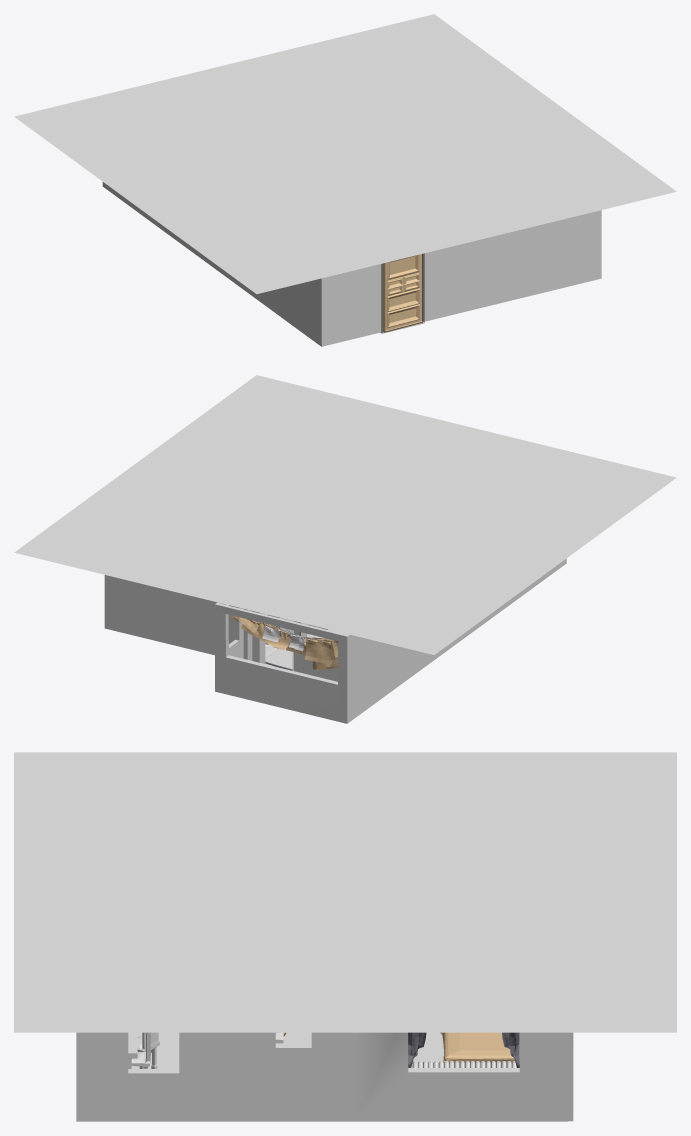
The model's file is Apartament2.fbx.
The picture shows the model from 3 angles, top to bottom: view 1: azimuth 30°, elevation 25°; view 2: azimuth 150°, elevation 25°; view 3: azimuth 270°, elevation 25°; orthographic projection. The views are drawn at different scales.
Parts seen in each view (by area): view 1: Tavan, WALLS, FRONT DOOR; view 2: Tavan, WALLS, Rufa 1; view 3: Tavan, WALLS, Plapuma, Calorifer dormitor.
Boxes of the visible parts, x1,y1,x2,y2 form: Tavan: [14, 14, 676, 293]; WALLS: [102, 182, 601, 346]; FRONT DOOR: [382, 253, 422, 332]; Tavan: [14, 375, 676, 654]; WALLS: [104, 558, 566, 723]; Rufa 1: [304, 638, 335, 664]; Tavan: [14, 752, 676, 1032]; WALLS: [76, 1032, 573, 1121]; Plapuma: [440, 1032, 516, 1067]; Calorifer dormitor: [411, 1061, 516, 1067].
Bounding box in the file's own units: 2148 × 471 × 2148.
